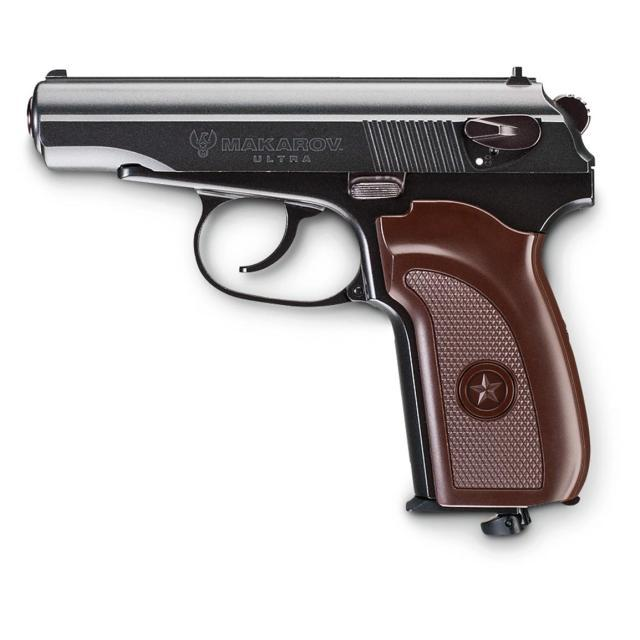Pistol: (19, 30, 628, 574)
